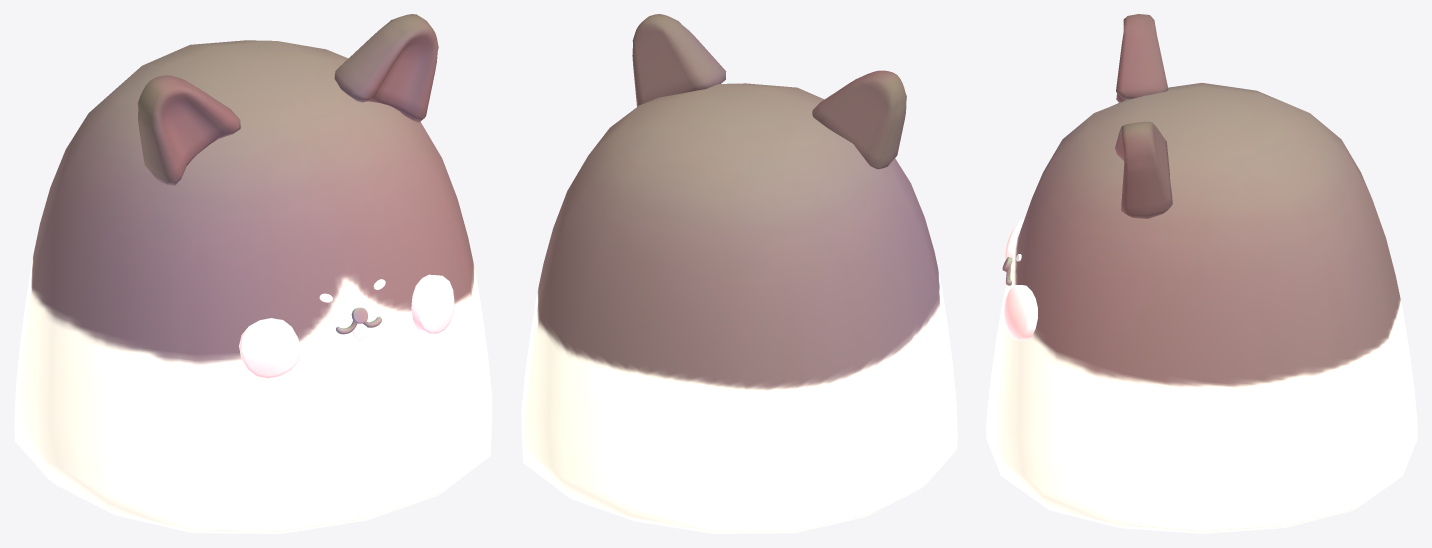
Rendered from figurka_kot.glb.
The picture shows the model from 3 angles, left to right: view 1: azimuth 30°, elevation 25°; view 2: azimuth 150°, elevation 25°; view 3: azimuth 270°, elevation 25°; orthographic projection. The views are drawn at different scales.
Parts seen in each view (by area): view 1: Animal32; view 2: Animal32; view 3: Animal32.
Part boxes in pixels (x1,y1,x2,y2): Animal32: (14, 14, 492, 533); Animal32: (521, 14, 957, 533); Animal32: (986, 14, 1417, 533).
Bounding box in the file's own units: 0.0267 × 0.0269 × 0.0267.
Materials: 1 (1 with a texture image).
